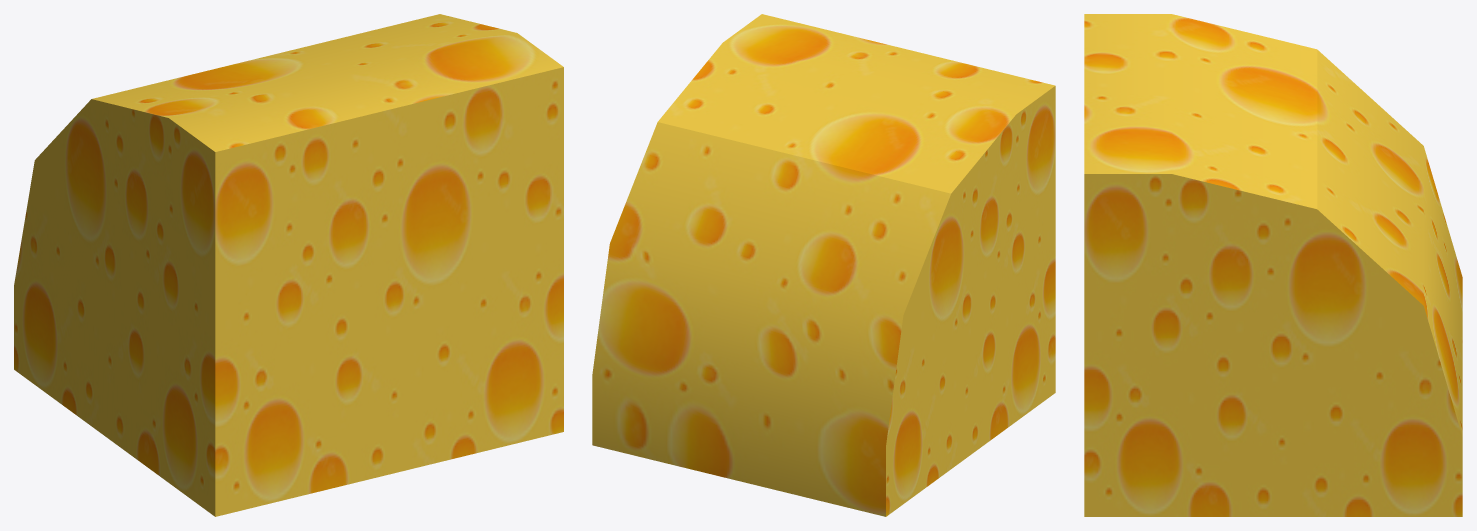
Rendered from POL0410010.fbx.
The picture shows the model from 3 angles, left to right: view 1: azimuth 30°, elevation 25°; view 2: azimuth 150°, elevation 25°; view 3: azimuth 270°, elevation 25°; orthographic projection. The views are drawn at different scales.
Parts seen in each view (by area): view 1: smPOL0410010; view 2: smPOL0410010; view 3: smPOL0410010.
Boxes of the visible parts, x1,y1,x2,y2 form: smPOL0410010: (14, 14, 563, 516); smPOL0410010: (592, 14, 1055, 516); smPOL0410010: (1084, 14, 1462, 516).
Size of the model in its own units: 161 by 161 by 161.
Materials: 1 (1 with a texture image).
